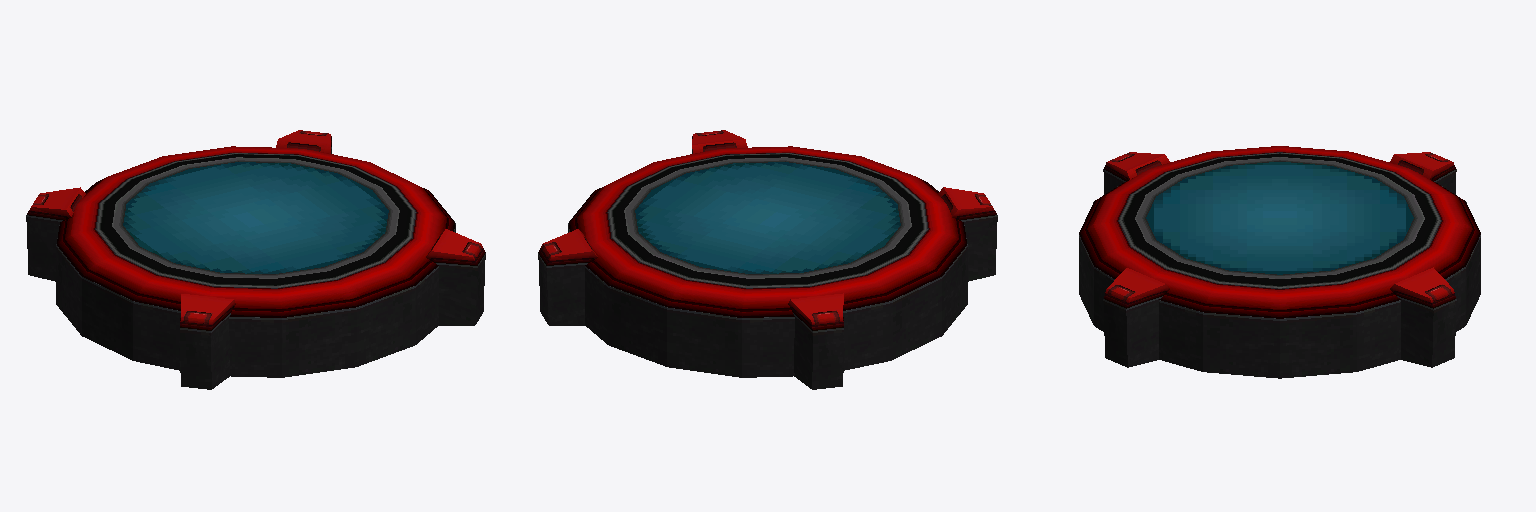
The picture shows the model from 3 angles: view 1: azimuth 30°, elevation 25°; view 2: azimuth 150°, elevation 25°; view 3: azimuth 270°, elevation 25°; orthographic projection.
Visible parts, largest first — view 1: polygon0, polygon2, polygon1; view 2: polygon0, polygon2, polygon1; view 3: polygon0, polygon2, polygon1.
Boxes of the visible parts, box(x1,y1,x2,y2) form: polygon0: box(26, 130, 485, 389); polygon2: box(123, 162, 388, 273); polygon1: box(112, 157, 399, 278); polygon0: box(538, 130, 997, 389); polygon2: box(635, 162, 900, 273); polygon1: box(624, 157, 911, 278); polygon0: box(1079, 146, 1480, 378); polygon2: box(1146, 162, 1413, 274); polygon1: box(1135, 157, 1424, 278).
Size of the model in its own units: 20 by 4.15 by 20.
Materials: 3 (3 with a texture image).